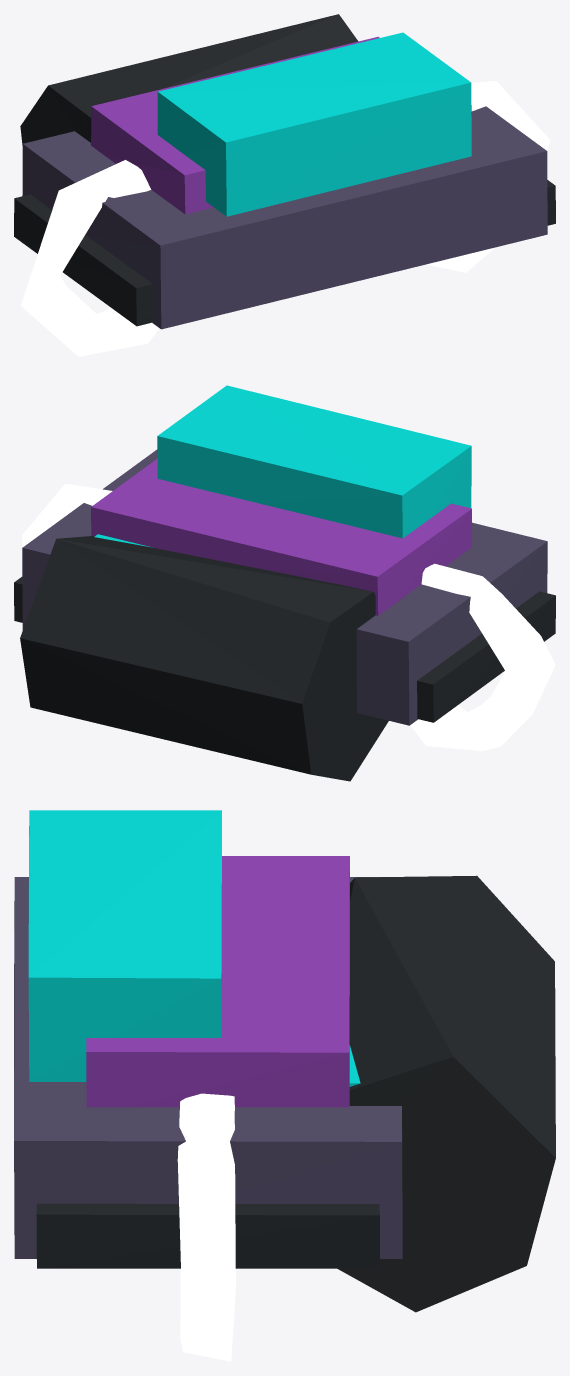
Rendered from SM_Chronolegion_CH_ProbabilistHarvester_LOD3.fbx.
The picture shows the model from 3 angles, top to bottom: view 1: azimuth 30°, elevation 25°; view 2: azimuth 150°, elevation 25°; view 3: azimuth 270°, elevation 25°; orthographic projection. The views are drawn at different scales.
Parts seen in each view (by area): view 1: LOD03_SM_Chronolegion_CH_ProbabilistHarvester; view 2: LOD03_SM_Chronolegion_CH_ProbabilistHarvester; view 3: LOD03_SM_Chronolegion_CH_ProbabilistHarvester.
Part boxes in pixels (x1,y1,x2,y2): LOD03_SM_Chronolegion_CH_ProbabilistHarvester: [14, 14, 555, 356]; LOD03_SM_Chronolegion_CH_ProbabilistHarvester: [14, 385, 555, 781]; LOD03_SM_Chronolegion_CH_ProbabilistHarvester: [14, 810, 555, 1361].
Size of the model in its own units: 594 by 378 by 262.
